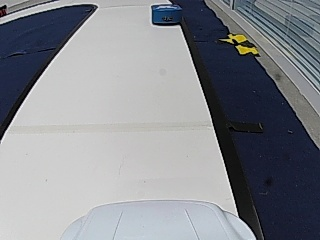prop: (152, 4, 182, 25)
